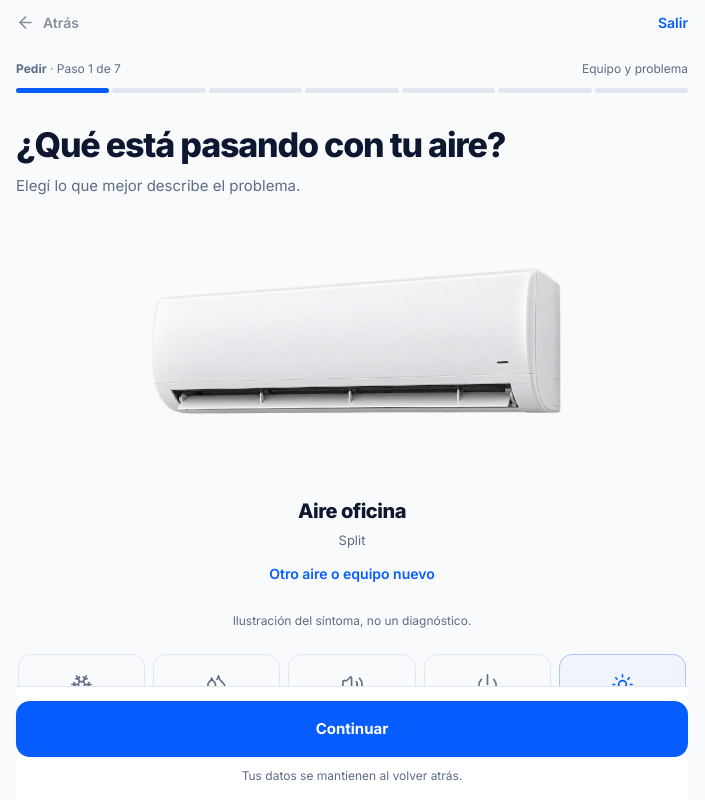
Scenario: customer request wizard › explains every existing cause for No funciona calor without presenting a confirmed diagnosis
This screenshot has width=705, height=800.
Step 1. Click the button "Continuar" → click(352, 730), box left=16, top=702, right=688, bottom=758
(page scrolled)
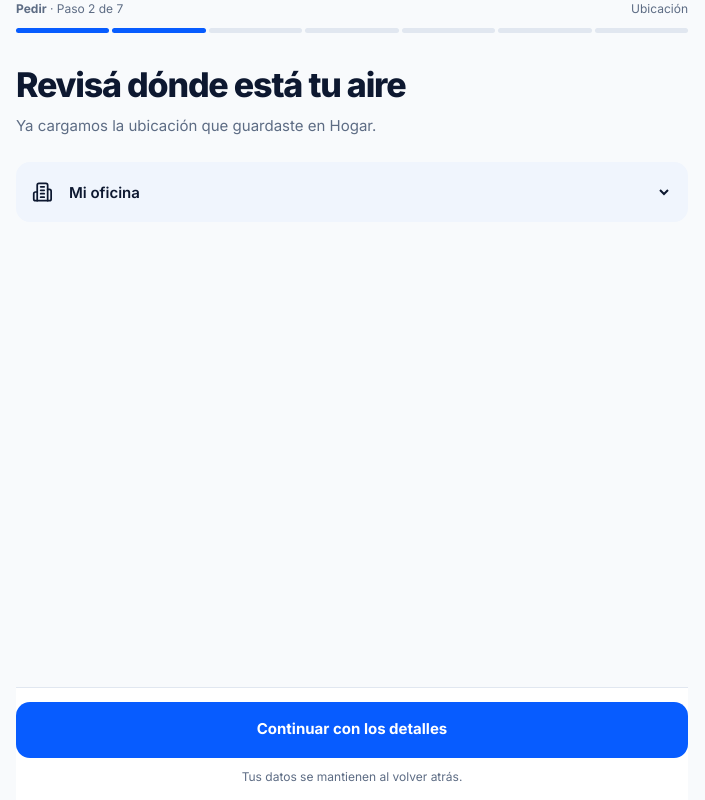
Step 2. Click the button "Continuar con los detalles" → click(352, 730), box left=16, top=702, right=688, bottom=758
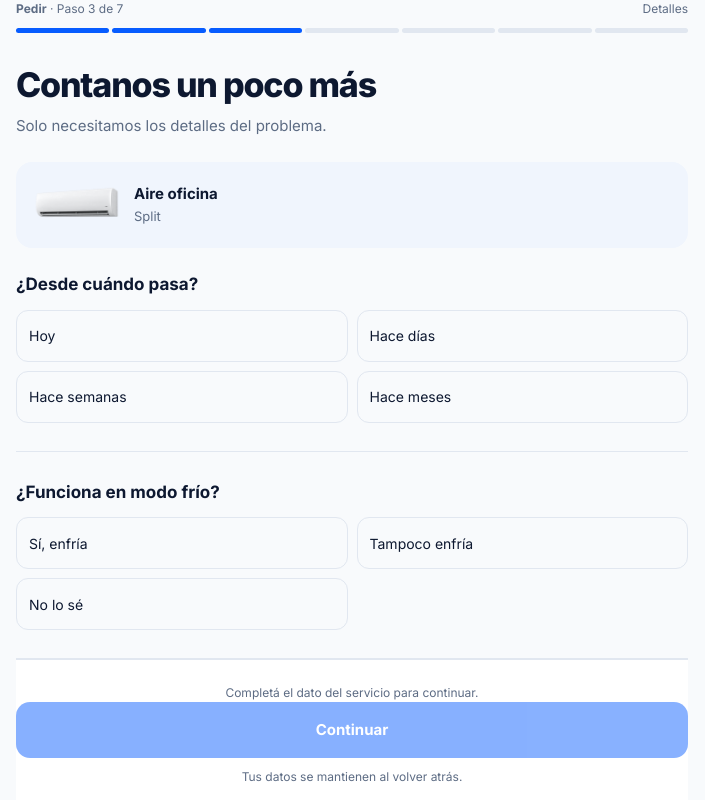
Step 3. Click the radio button labelled "Hace días" → click(402, 336), box left=356, top=310, right=688, bottom=362
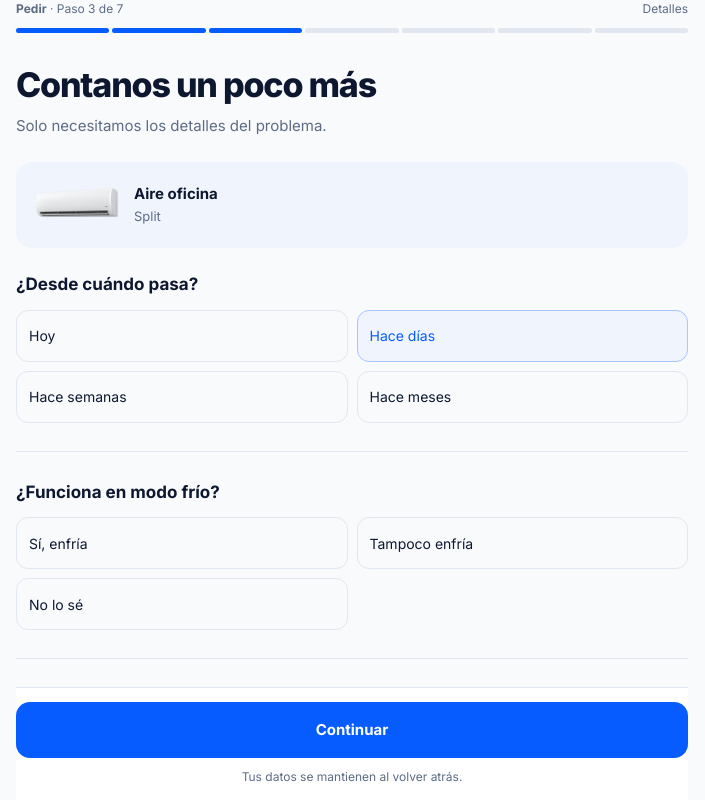
Step 4. Click the button "Continuar" → click(352, 730), box left=16, top=702, right=688, bottom=758
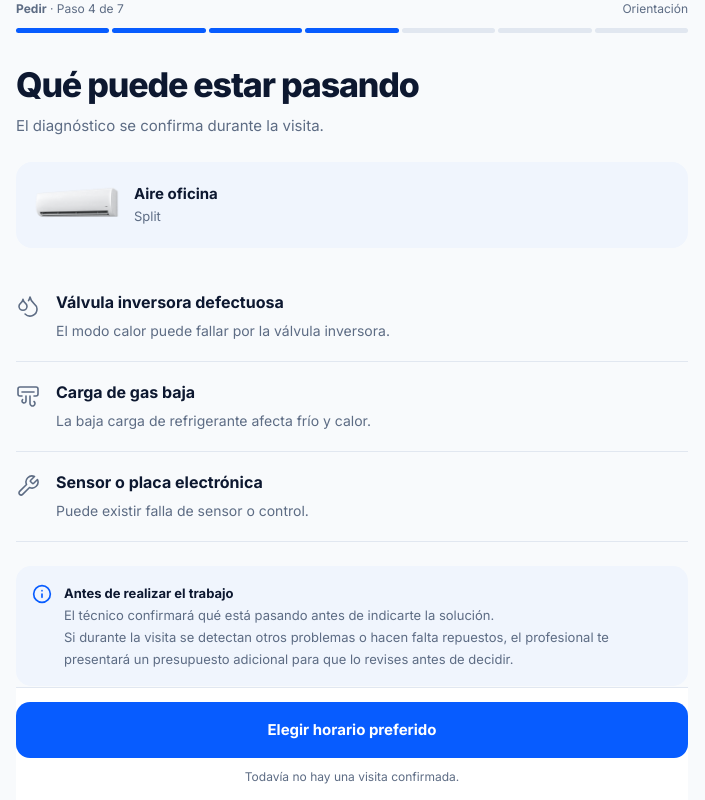
Now the heading "Qué puede estar pasando" is shown, box left=16, top=64, right=418, bottom=105
Now the text "El modo calor puede fallar por la válvula inversora." is shown, box left=56, top=319, right=390, bottom=343
Now the text "La baja carga de refrigerante afecta frío y calor." is shown, box left=56, top=409, right=371, bottom=433
